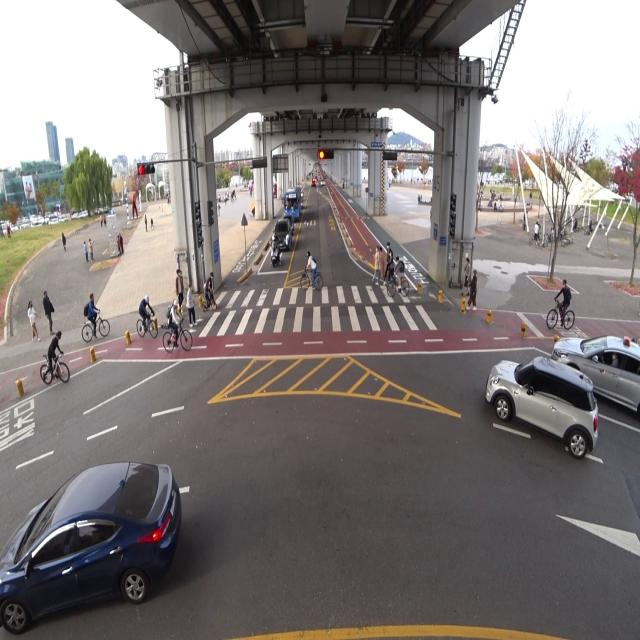Bus: (282, 184, 306, 222)
Car: (0, 427, 193, 640), (471, 350, 609, 480), (551, 323, 640, 430), (272, 216, 292, 255), (280, 209, 296, 236)
Motorcycle: (270, 236, 282, 266)
